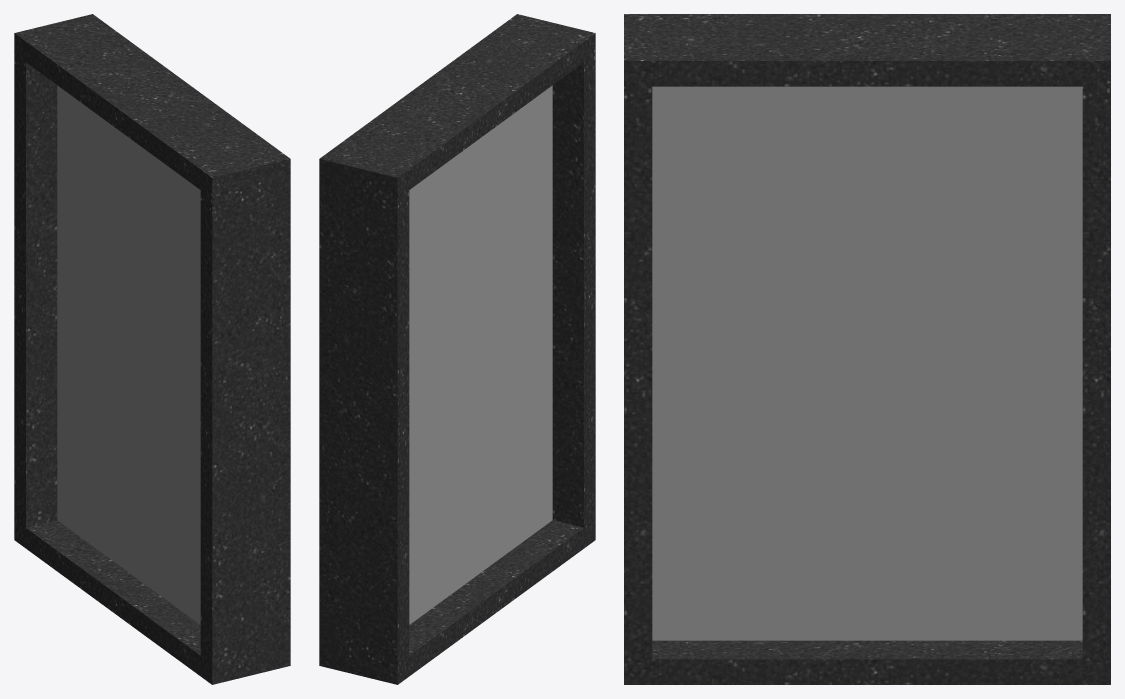
The model's file is Glass_Wall.fbx.
The picture shows the model from 3 angles, left to right: view 1: azimuth 30°, elevation 25°; view 2: azimuth 150°, elevation 25°; view 3: azimuth 270°, elevation 25°; orthographic projection. The views are drawn at different scales.
Visible parts, largest first — view 1: Glass_Wall, Window; view 2: Glass_Wall, Window; view 3: Window, Glass_Wall.
Boxes of the visible parts, <box> form: Glass_Wall: <box>14,14,290,684</box>; Window: <box>57,85,200,624</box>; Glass_Wall: <box>319,14,595,684</box>; Window: <box>409,85,552,624</box>; Window: <box>652,86,1082,640</box>; Glass_Wall: <box>624,14,1110,684</box>.
Bounding box in the file's own units: 35.92 × 222 × 157.
